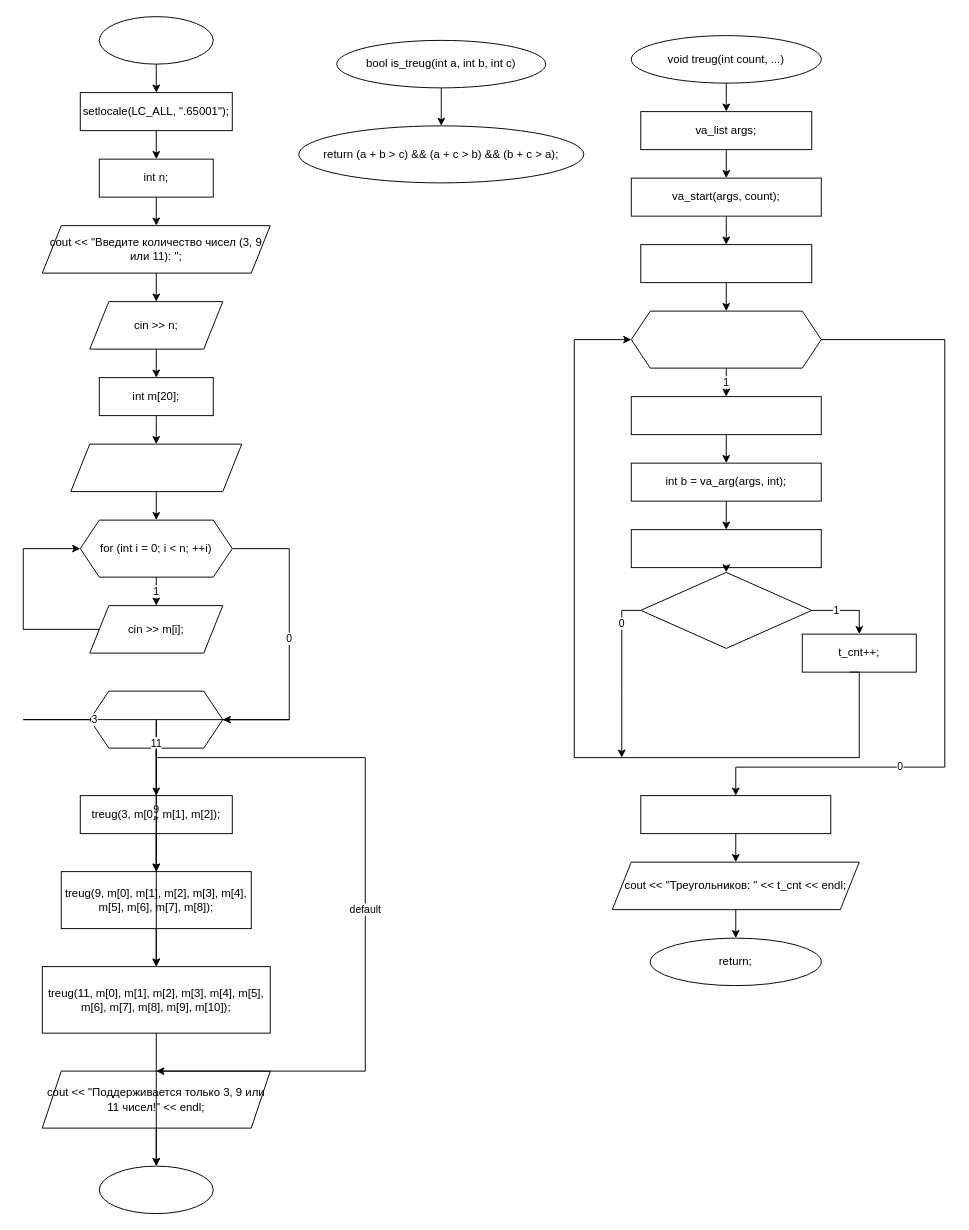
This 969x1230 diagram has some shape labels left out. Each missing label, with the centre of its shape:
cout << "Введите числа через пробел: ";: the point at 156,467
for (int i = 0; i < count / 3; ++i): the point at 725,339
if (is_treug(a, b, c)): the point at 726,609
int a = va_arg(args, int);: the point at 725,415
int c = va_arg(args, int);: the point at 725,548
int t_cnt = 0;: the point at 726,263
return 0;: the point at 155,1189
switch(n): the point at 156,719
va_end(args);: the point at 735,814
Начало: the point at 155,40
